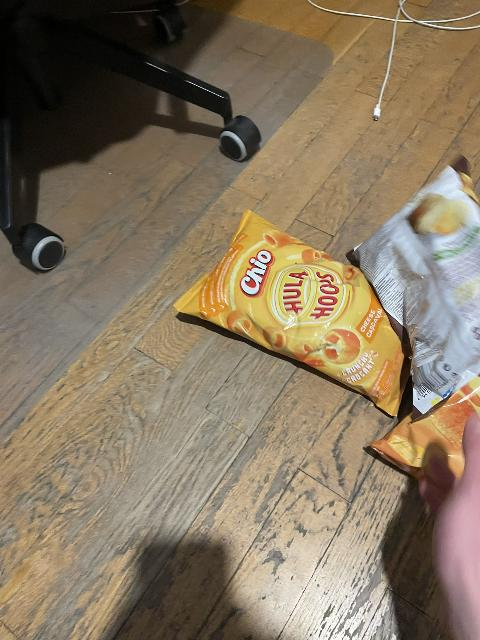Chio Cascaval 125g: (368, 373, 480, 485)
Chio Hula Hoops Cheese 70g: (171, 209, 406, 419)
Lays Beef Grilled Ribs 125g: (346, 151, 480, 420)
